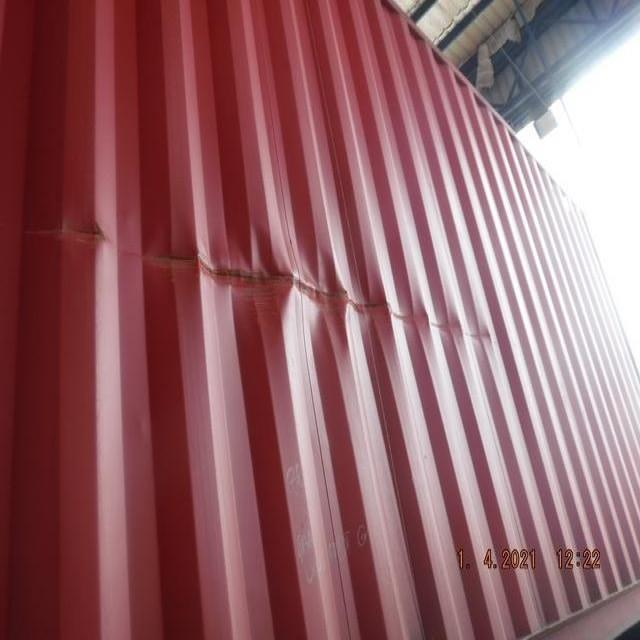Dent: (141, 213, 500, 367)
